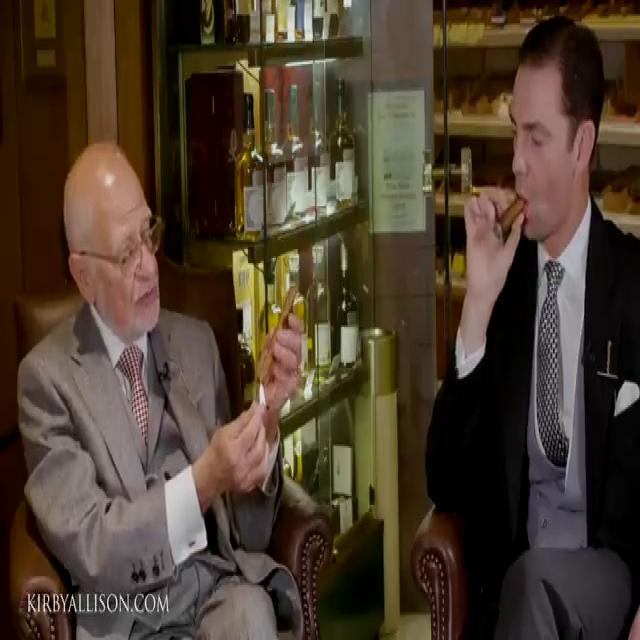Smooking: (496, 194, 530, 240)
